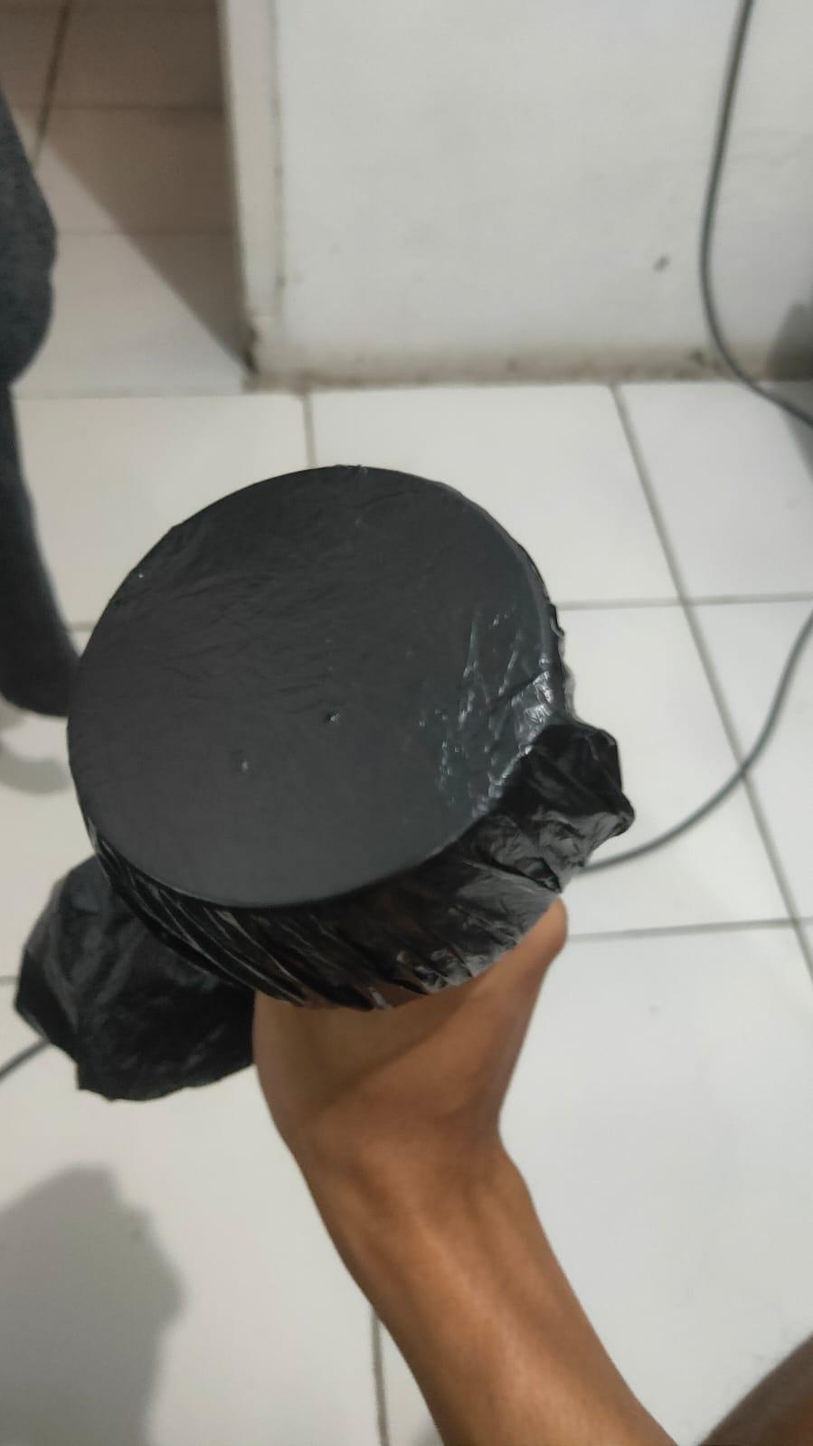undamaged: (56, 453, 655, 1039)
